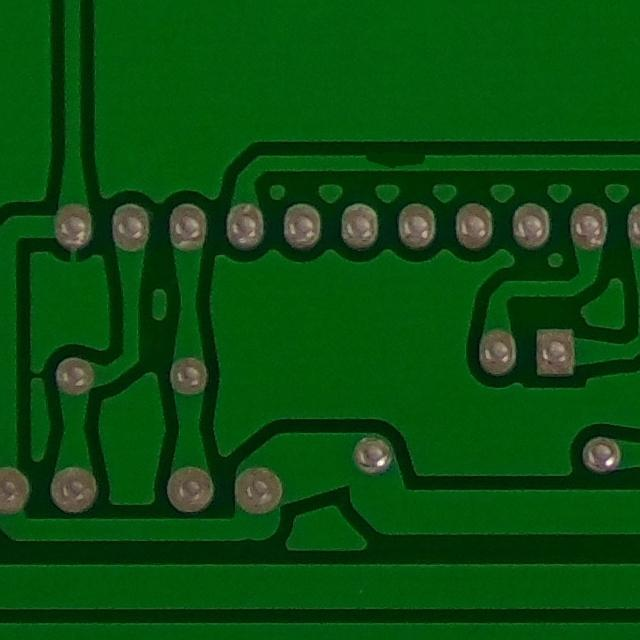mouse_bite: (353, 140, 438, 179)
